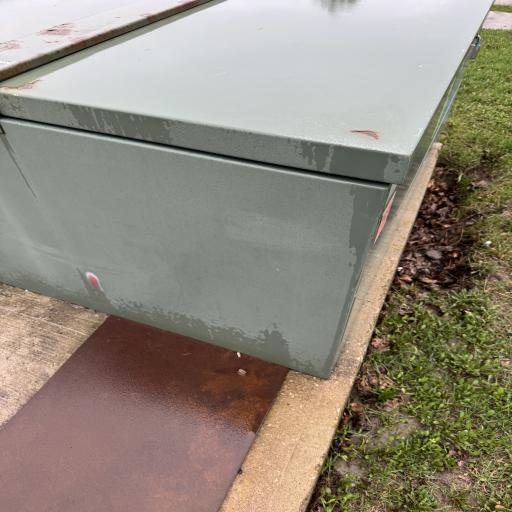Electrical Box: (2, 2, 495, 378)
